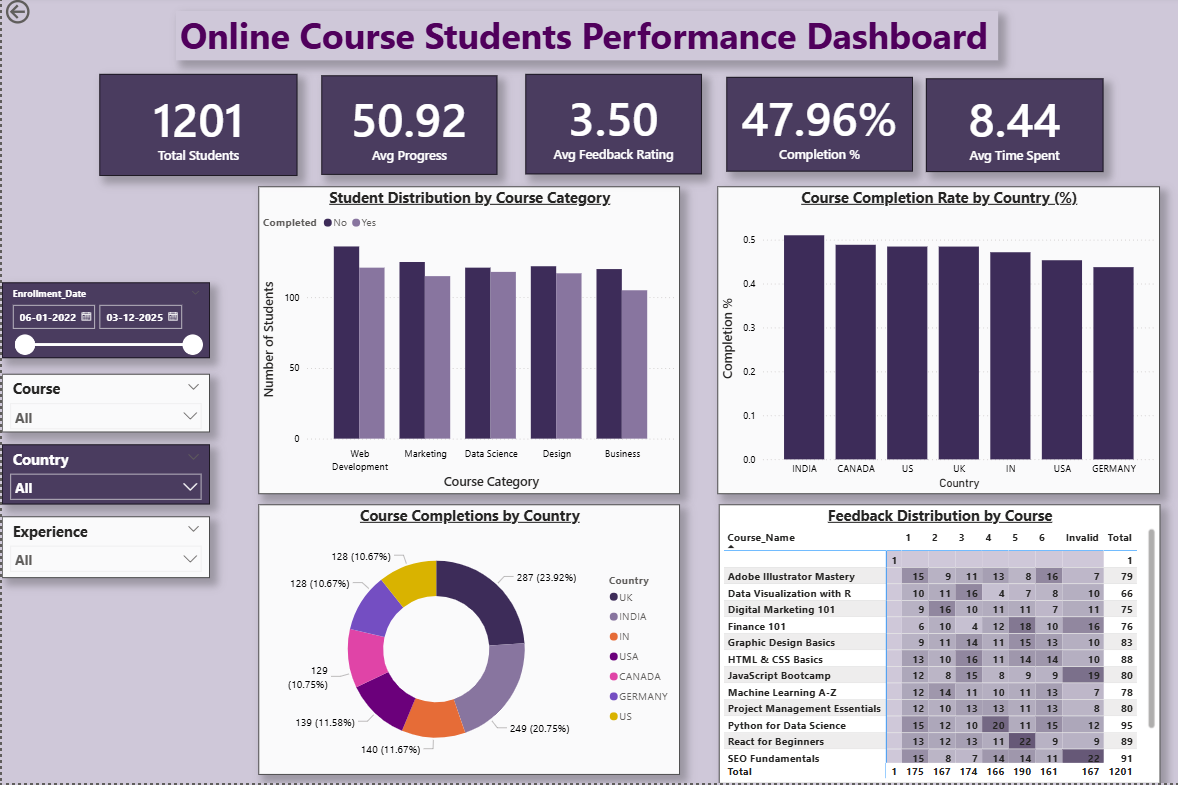

This screenshot's page, from the dashboard's own definition file:
{"tool":"powerbi","page":{"name":"Overview & Performance Summary","canvas":[1500,1000],"ordinal":0},"visuals":[{"type":"card","fields":{"Values":["online_course_student_data_1.Total Students"]},"box":[123.9,99.1,251.6,129.6],"z":0},{"type":"card","fields":{"Values":["online_course_student_data_1.Avg Progress"]},"box":[406,101,223,125.8],"z":1000},{"type":"card","fields":{"Values":["online_course_student_data_1.Completion %"]},"box":[920.6,102.9,236.3,120.1],"z":2000},{"type":"card","fields":{"Values":["online_course_student_data_1.Avg Time Spent"]},"box":[1173.8,105,225,118.8],"z":3000},{"type":"clusteredColumnChart","title":"Student Distribution by Course Category","fields":{"Category":["online_course_student_data_1.Course_Category"],"Y":["CountNonNull(online_course_student_data_1.Student_ID)"],"Series":["online_course_student_data_1.Completed_Cleaned"]},"box":[325.9,242.1,535.6,390.7],"z":4000},{"type":"actionButton","box":[0,0,100,40],"z":5000},{"type":"slicer","fields":{"Values":["online_course_student_data_1.Course_Category"]},"box":[0,480,264,74],"z":6000},{"type":"slicer","fields":{"Values":["online_course_student_data_1.Country_Cleaned"]},"box":[0,570,264,76],"z":7000},{"type":"slicer","fields":{"Values":["online_course_student_data_1.Experience_Level"]},"box":[0,662,264,78],"z":8000},{"type":"slicer","fields":{"Values":["online_course_student_data_1.Enrollment_Date"]},"box":[0,364,264,96],"z":9000},{"type":"card","fields":{"Values":["online_course_student_data_1.Avg Feedback Rating"]},"box":[665,100,223.8,127.5],"z":10000},{"type":"clusteredColumnChart","title":"Course Completion Rate by Country (%)","fields":{"Category":["online_course_student_data_1.Country_Cleaned"],"Y":["online_course_student_data_1.Completion % by Country"]},"box":[909.2,242.1,562.3,390.7],"z":11000},{"type":"textbox","title":"Online Course Students Performance Dashboard","box":[221.1,19.1,1044.5,62.9],"z":12000},{"type":"donutChart","title":"Course Completions by Country","fields":{"Category":["online_course_student_data_1.Country_Cleaned"],"Y":["CountNonNull(online_course_student_data_1.Completed_Cleaned)"]},"box":[325.9,646.1,535.6,343.1],"z":13000},{"type":"pivotTable","title":"Feedback Distribution by Course","fields":{"Rows":["online_course_student_data_1.Course_Name"],"Columns":["online_course_student_data_1.Cleaned_Feedback_Rating"],"Values":["online_course_student_data_1.Total Students"]},"box":[911.1,646.1,560.4,354.5],"z":14000}]}

Visuals, with their boxes on the page's 1500x1000 design canvas (x1, y1, x2, y2). These are canvas units, not pixel positions in the 1178x785 screenshot, which may show the page scaled, cropped or inside an application window:
card - online_course_student_data_1.Total Students: box(124, 99, 376, 229)
card - online_course_student_data_1.Avg Progress: box(406, 101, 629, 227)
card - online_course_student_data_1.Completion %: box(921, 103, 1157, 223)
card - online_course_student_data_1.Avg Time Spent: box(1174, 105, 1399, 224)
"Student Distribution by Course Category" clusteredColumnChart: box(326, 242, 862, 633)
actionButton: box(0, 0, 100, 40)
slicer - online_course_student_data_1.Course_Category: box(0, 480, 264, 554)
slicer - online_course_student_data_1.Country_Cleaned: box(0, 570, 264, 646)
slicer - online_course_student_data_1.Experience_Level: box(0, 662, 264, 740)
slicer - online_course_student_data_1.Enrollment_Date: box(0, 364, 264, 460)
card - online_course_student_data_1.Avg Feedback Rating: box(665, 100, 889, 228)
"Course Completion Rate by Country (%)" clusteredColumnChart: box(909, 242, 1472, 633)
"Online Course Students Performance Dashboard" textbox: box(221, 19, 1266, 82)
"Course Completions by Country" donutChart: box(326, 646, 862, 989)
"Feedback Distribution by Course" pivotTable: box(911, 646, 1472, 1001)
